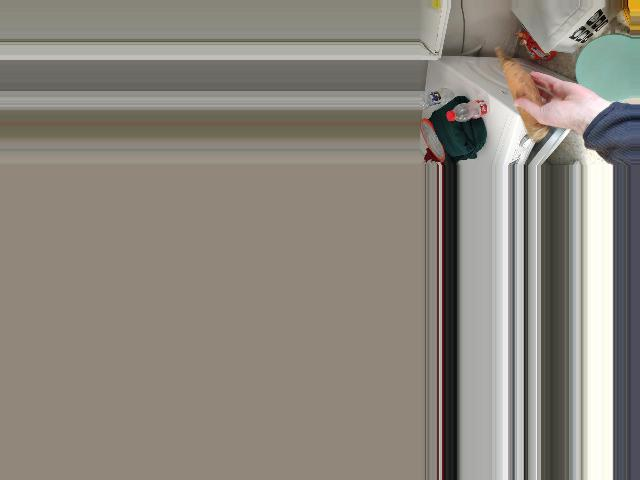sweet_potato: (500, 68, 547, 135)
